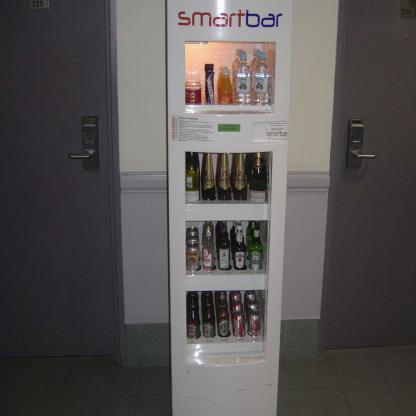door: (0, 0, 120, 360), (334, 0, 416, 344)
lever: (68, 150, 94, 164), (354, 151, 377, 161)
